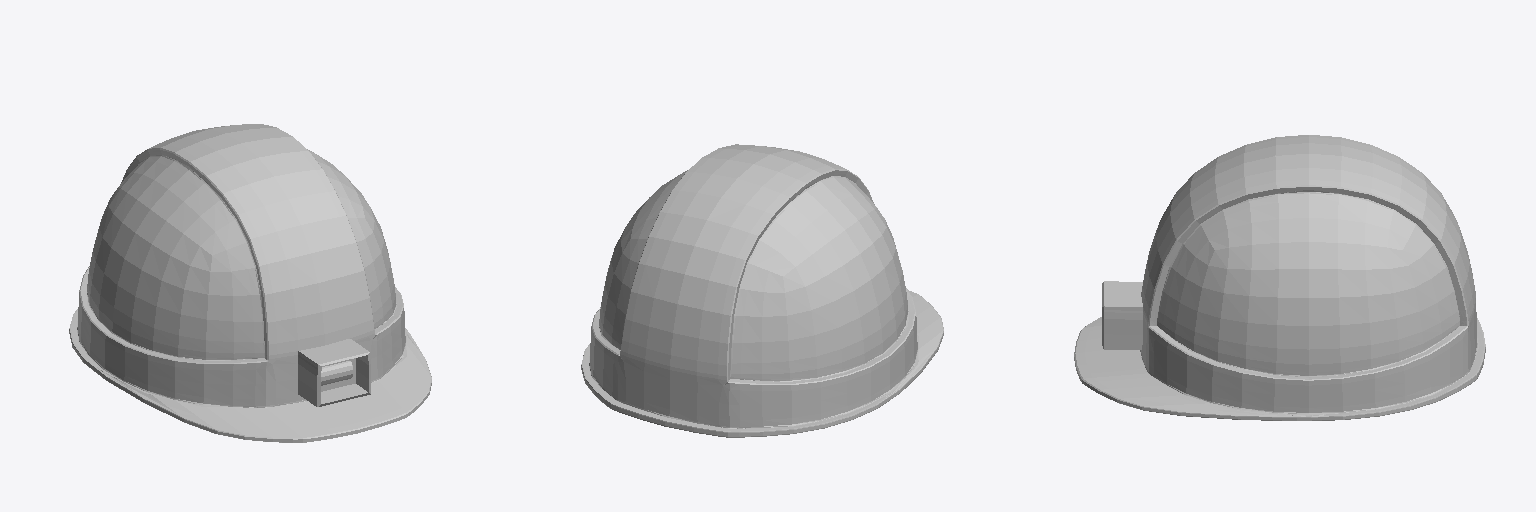
Rendered from Hard hat2.obj.
The picture shows the model from 3 angles: view 1: azimuth 30°, elevation 25°; view 2: azimuth 150°, elevation 25°; view 3: azimuth 270°, elevation 25°; orthographic projection.
Parts seen in each view (by area): view 1: Hard_Hat_2_Cube.004; view 2: Hard_Hat_2_Cube.004; view 3: Hard_Hat_2_Cube.004.
Part boxes in pixels (x1,y1,x2,y2): Hard_Hat_2_Cube.004: (69,124,431,442); Hard_Hat_2_Cube.004: (581,144,943,437); Hard_Hat_2_Cube.004: (1074,135,1485,420).
Size of the model in its own units: 1.79 by 1.24 by 2.27.